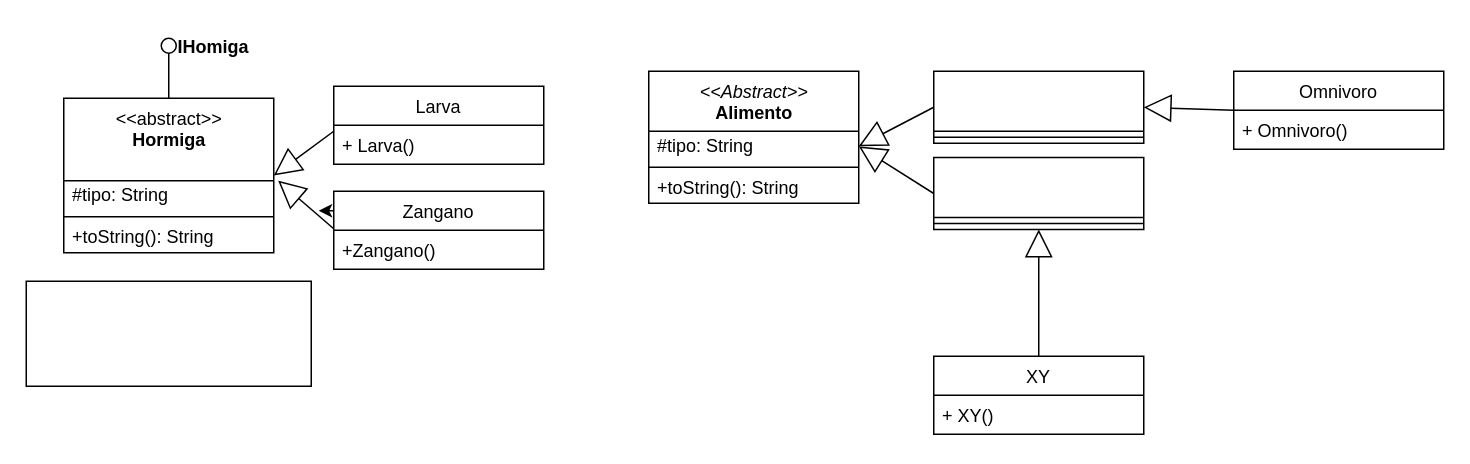
Some shapes in this 1470 by 464 pixel diagram are drawn without their labels. The shapes that lost their labels are listed below. From the top down, each one's centre as x and y in pixels, then its label:
(x=1038, y=106): <<Abstract>> IngestaNativa
(x=1038, y=193): <<Abstract>> GenoAlimento
(x=168, y=333): <<Interface>> IHormiga + comer(Alimento): boolean
